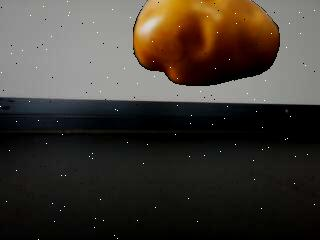Potato: (133, 0, 281, 87)
